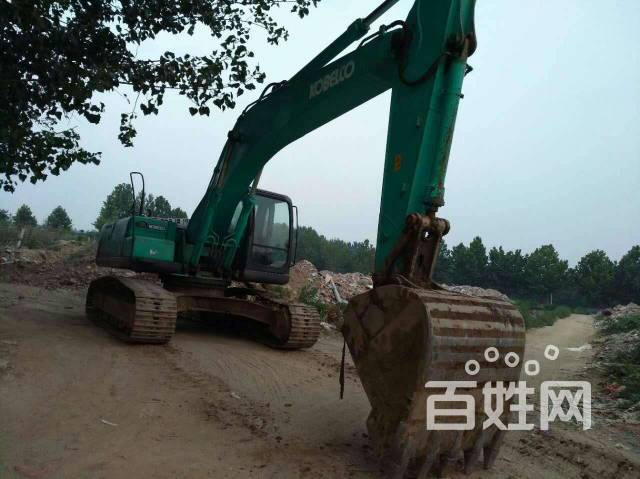excavator: (84, 1, 534, 471)
